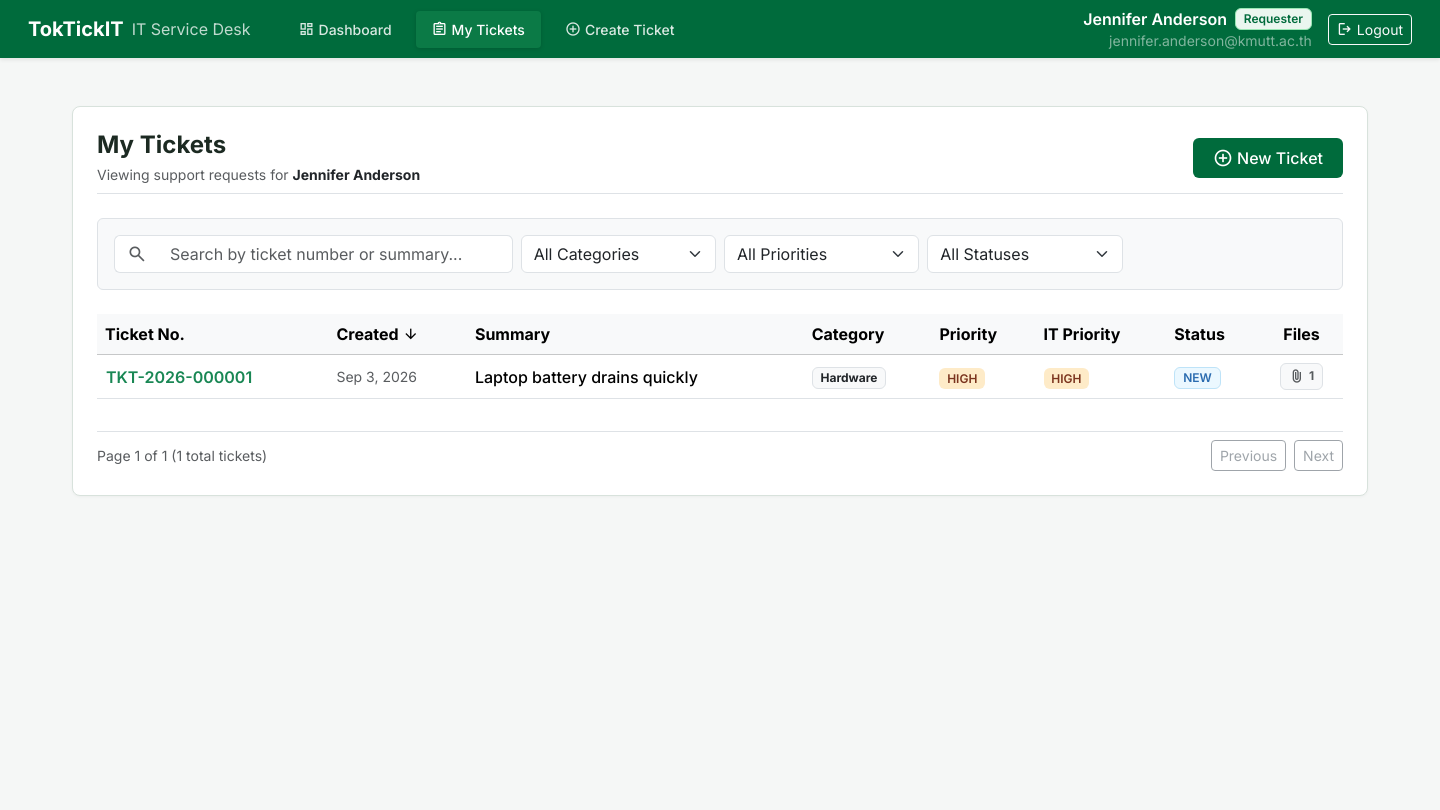
Scenario: Lab 2 My Tickets Suite (client/tests/lab-02/MyTickets.test.tsx) › renders no-results state with Clear Filters CTA when filters return empty data (UI-07, AC-12)
Expected: the button "TKT-2026-000001" is shown, [105,364,253,390]
// Type a filter search that yields no results
Step 1. Type "NonExistentKeyword" into the field named "Search tickets" → (335, 254), box [158,235,513,273]
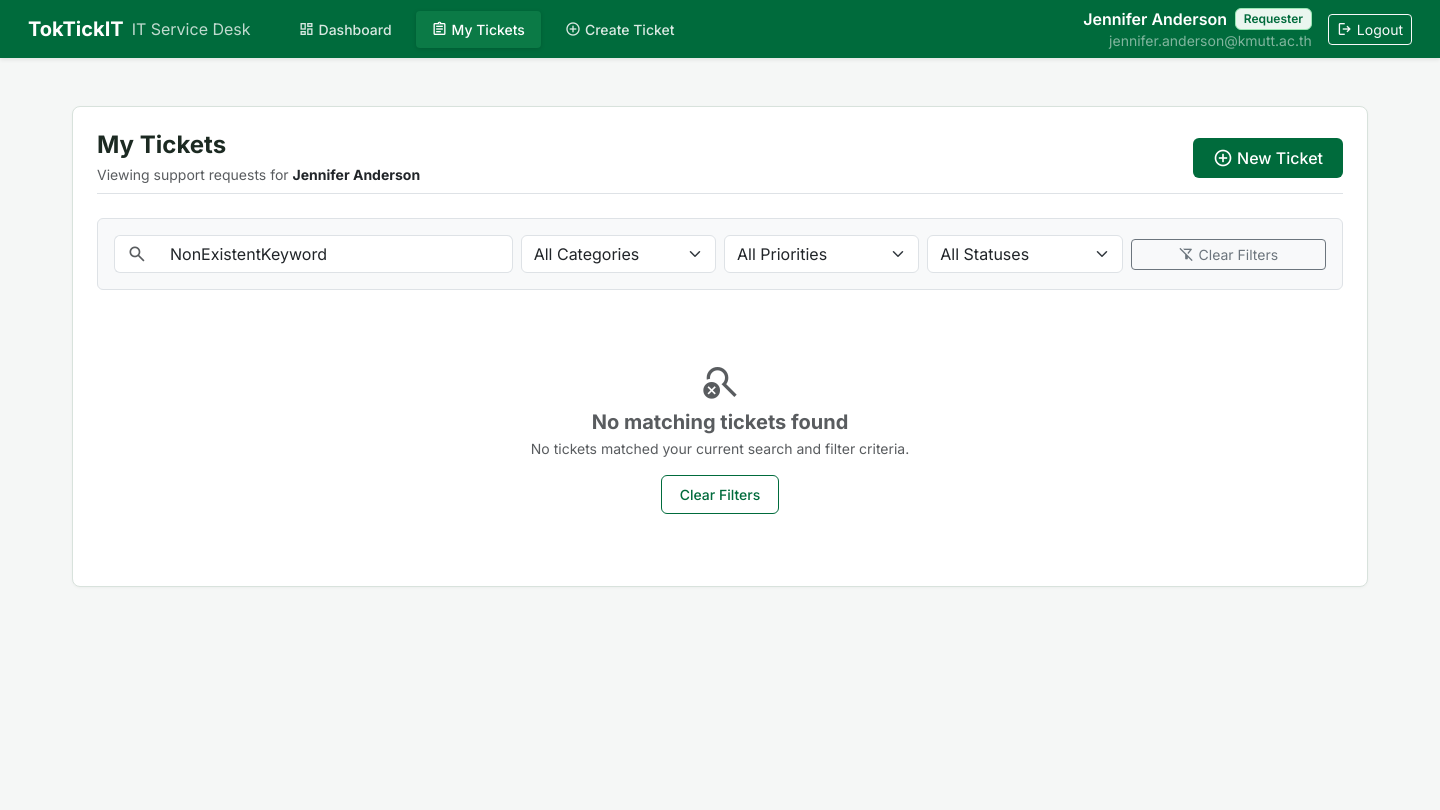
Result: the heading "No matching tickets found" is shown at [592,410,848,434]
Result: the 1st button "Clear Filters" is shown at [1131,239,1326,270]
